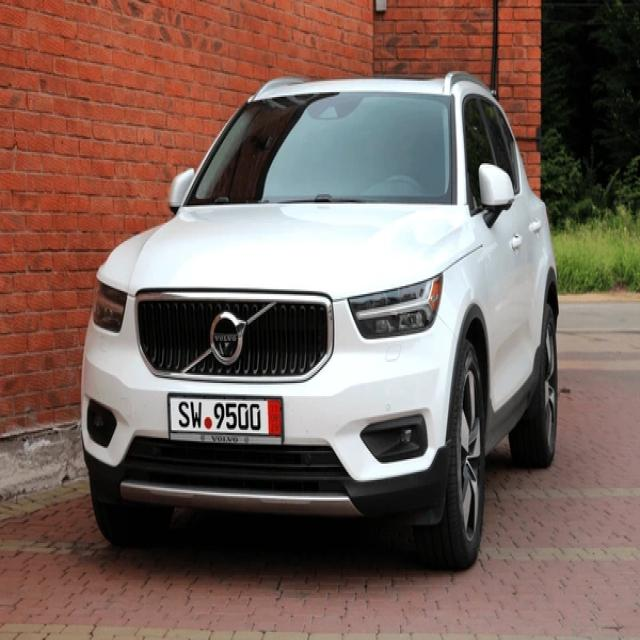volvo: (200, 301, 258, 375)
